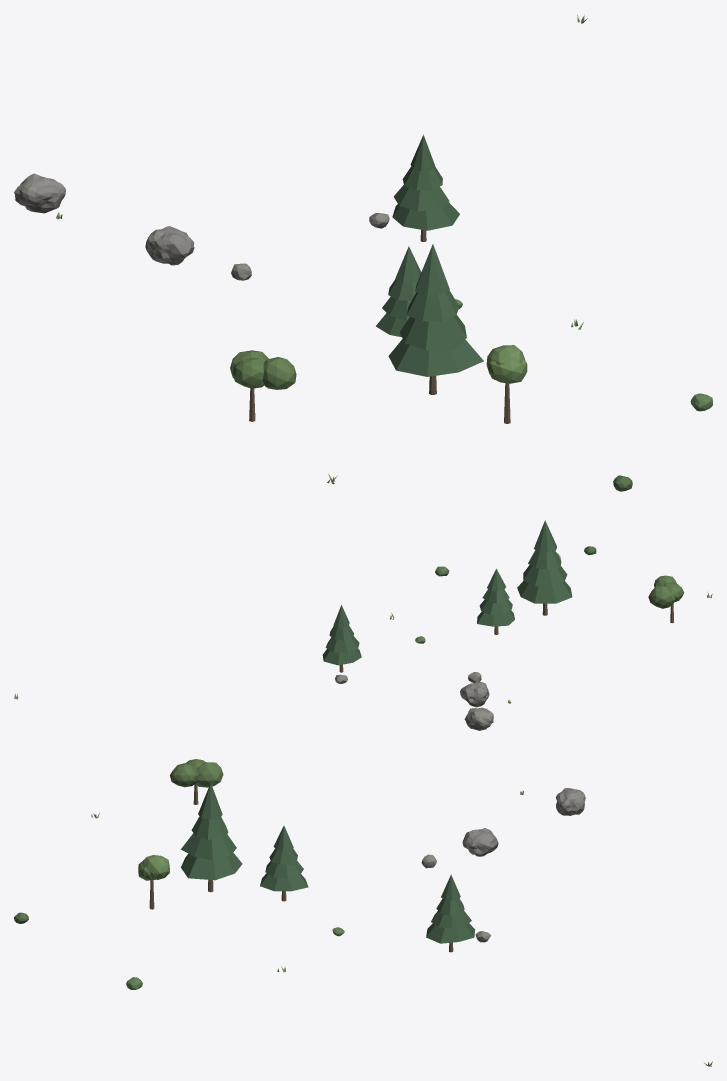
File: arch_land_scatter_c21_20.glb
The picture shows the model from 3 angles, top to bottom: view 1: azimuth 30°, elevation 25°; view 2: azimuth 150°, elevation 25°; view 3: azimuth 270°, elevation 25°; orthographic projection. The views are drawn at different scales.
Parts seen in each view (by area): view 1: arch_land_scatter_c21_20; view 2: arch_land_scatter_c21_20; view 3: arch_land_scatter_c21_20.
Part boxes in pixels (x1,y1,x2,y2): arch_land_scatter_c21_20: (14,15,712,491); arch_land_scatter_c21_20: (14,520,712,730); arch_land_scatter_c21_20: (14,759,712,1066).
Bounding box in the file's own units: 68.1 × 16.68 × 80.99.
